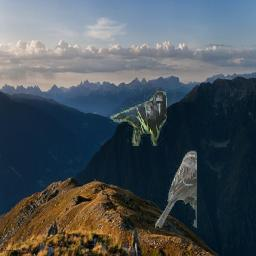Crow: (111, 92, 168, 147)
Sparrow: (155, 150, 197, 228)
